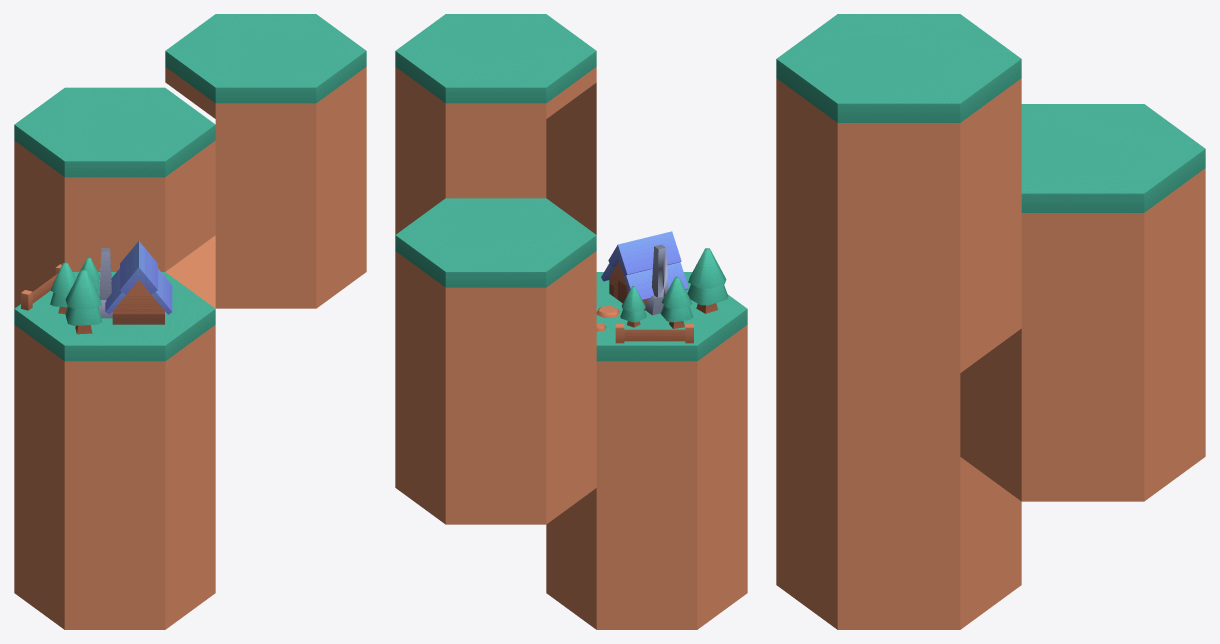
The picture shows the model from 3 angles, left to right: view 1: azimuth 30°, elevation 25°; view 2: azimuth 150°, elevation 25°; view 3: azimuth 270°, elevation 25°; orthographic projection. The views are drawn at different scales.
Parts seen in each view (by area): view 1: Large, Short, House, Grass 1, Grass 2, Middle; view 2: Middle, Large, Short, Grass 2, Grass 1, House; view 3: Middle, Short, Large, Grass 2, Grass 1.
Part boxes in pixels (x1=…): Large: x1=14, y1=340, x2=215, y2=629; Short: x1=166, y1=82, x2=366, y2=308; House: x1=14, y1=241, x2=215, y2=377; Grass 1: x1=14, y1=87, x2=215, y2=192; Grass 2: x1=165, y1=14, x2=366, y2=119; Middle: x1=14, y1=156, x2=215, y2=308; Middle: x1=395, y1=267, x2=596, y2=524; Large: x1=546, y1=340, x2=747, y2=629; Short: x1=395, y1=82, x2=596, y2=234; Grass 2: x1=395, y1=14, x2=596, y2=119; Grass 1: x1=395, y1=198, x2=596, y2=303; House: x1=596, y1=231, x2=747, y2=377; Middle: x1=960, y1=187, x2=1205, y2=501; Short: x1=776, y1=97, x2=1021, y2=373; Large: x1=776, y1=328, x2=1021, y2=629; Grass 2: x1=776, y1=14, x2=1021, y2=142; Grass 1: x1=1021, y1=104, x2=1205, y2=231.
Size of the model in its own units: 2 by 3.2 by 2.02.
Materials: 1 (1 with a texture image).
